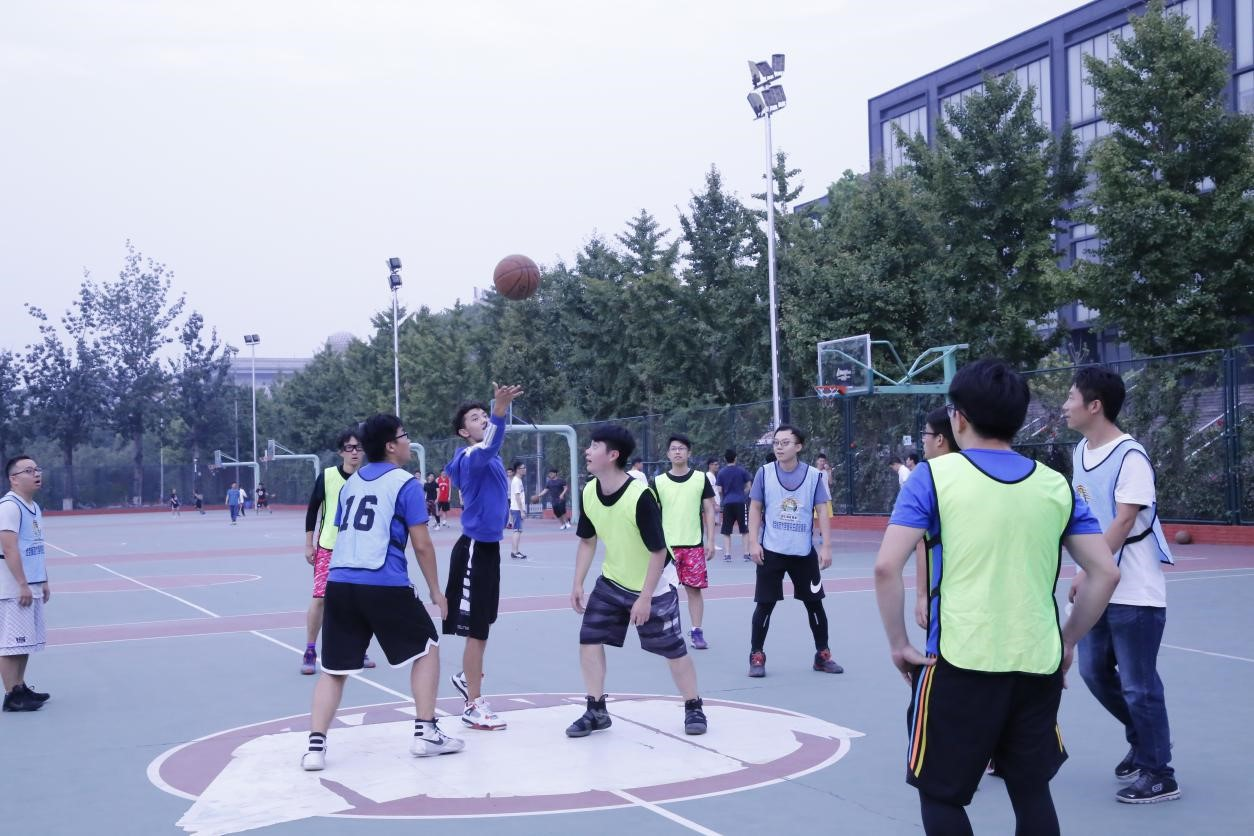ball: (494, 254, 539, 298)
